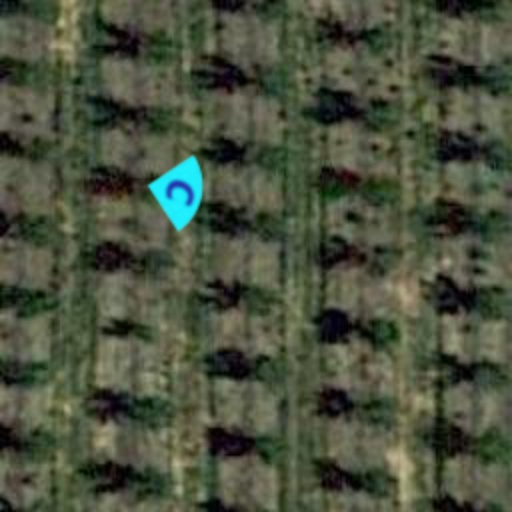quarter_circle: (136, 148, 224, 236)
